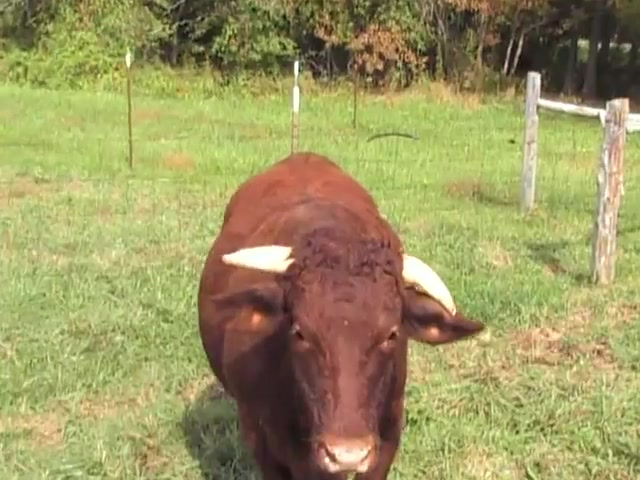cow: (196, 150, 485, 480)
